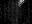person: (19, 0, 25, 9)
